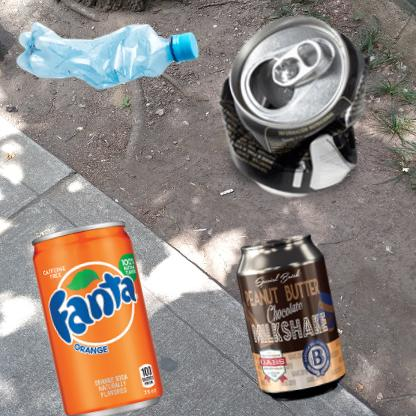botella: (10, 10, 209, 97)
lata: (10, 213, 196, 416), (213, 213, 380, 416), (213, 10, 379, 206)
